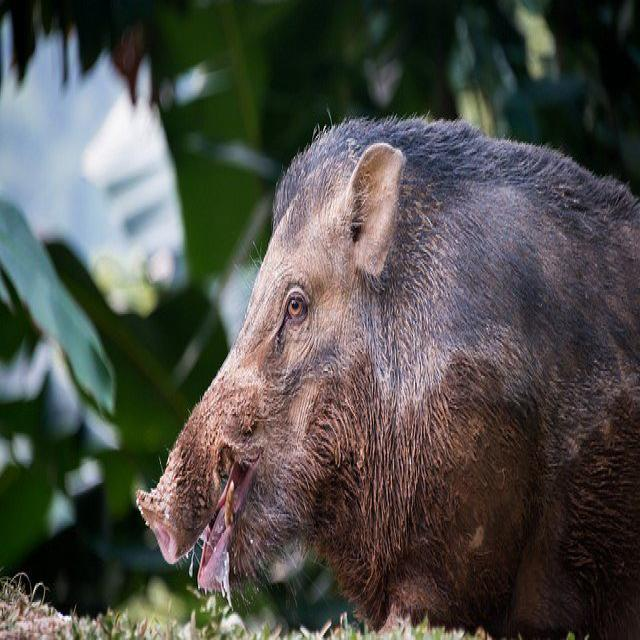Boar: (149, 119, 639, 640)
